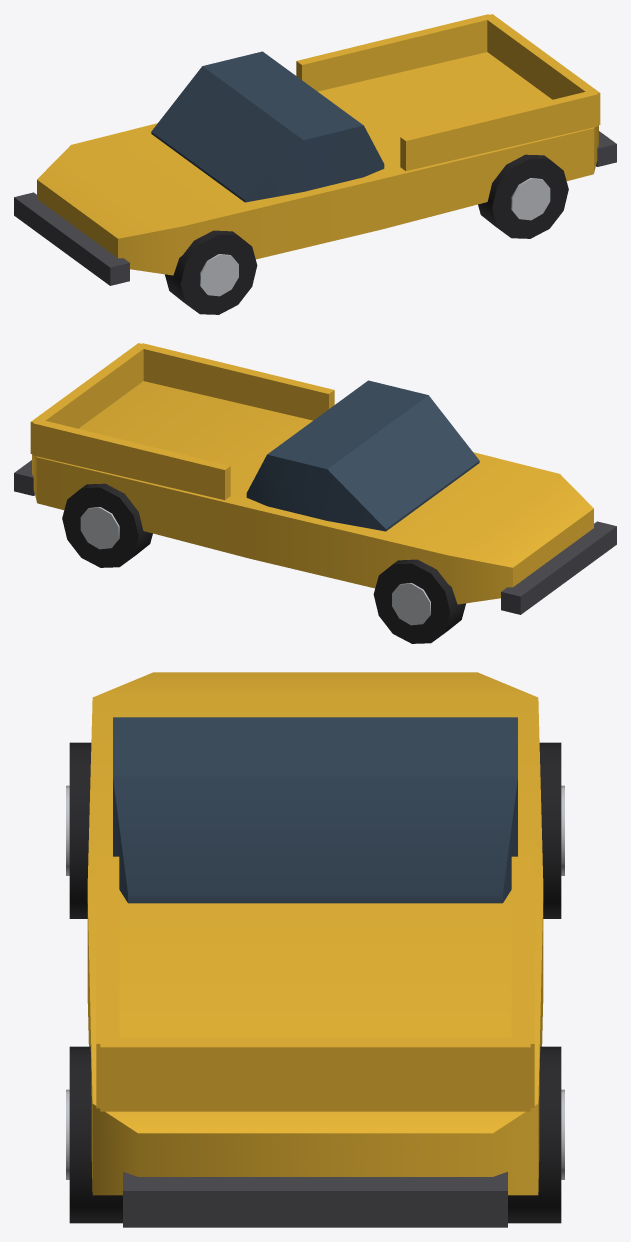
Rendered from car_pickup_yellow.fbx.
3 views of the same model, one above another, from view 1: azimuth 30°, elevation 25°; view 2: azimuth 150°, elevation 25°; view 3: azimuth 270°, elevation 25° (orthographic). The views are drawn at different scales.
Visible parts, largest first — view 1: Body, Wheel_FR, Wheel_RR; view 2: Body, Wheel_FL, Wheel_RL; view 3: Body, Wheel_RL, Wheel_RR, Wheel_FL, Wheel_FR.
Boxes of the visible parts, x1=… form: Body: x1=14, y1=14, x2=616, y2=285; Wheel_FR: x1=165, y1=230, x2=257, y2=314; Wheel_RR: x1=478, y1=154, x2=568, y2=238; Body: x1=14, y1=343, x2=616, y2=614; Wheel_FL: x1=373, y1=559, x2=465, y2=643; Wheel_RL: x1=62, y1=483, x2=152, y2=567; Body: x1=87, y1=672, x2=543, y2=1227; Wheel_RL: x1=508, y1=1046, x2=564, y2=1223; Wheel_RR: x1=66, y1=1046, x2=122, y2=1223; Wheel_FL: x1=539, y1=742, x2=564, y2=918; Wheel_FR: x1=66, y1=742, x2=91, y2=918.
Size of the model in its own units: 4.62 by 1.25 by 1.97.
